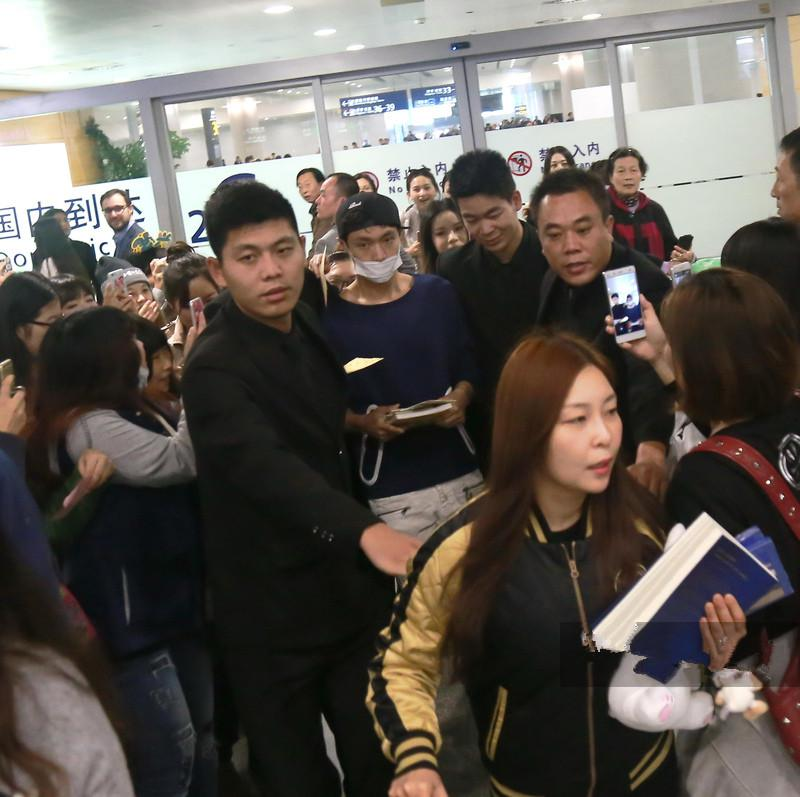NONE: (551, 396, 620, 490), (227, 236, 308, 314), (544, 214, 609, 279), (462, 195, 516, 249), (176, 276, 223, 328), (769, 155, 800, 220), (430, 211, 469, 260), (122, 281, 155, 324), (148, 342, 176, 387), (103, 194, 135, 231), (615, 159, 648, 192), (544, 149, 572, 177), (317, 183, 338, 220), (296, 173, 321, 202), (413, 181, 438, 206)
WRONG: (348, 225, 402, 277), (130, 332, 150, 389)
